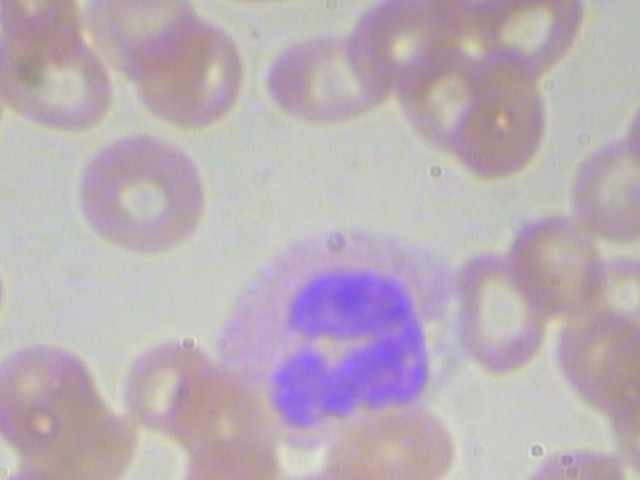RBC: (61, 132, 209, 260), (116, 10, 251, 135), (0, 8, 122, 133), (447, 244, 552, 374), (260, 27, 401, 123), (470, 0, 592, 81), (567, 135, 640, 243), (0, 238, 11, 342)
WBC: (209, 213, 478, 452)
